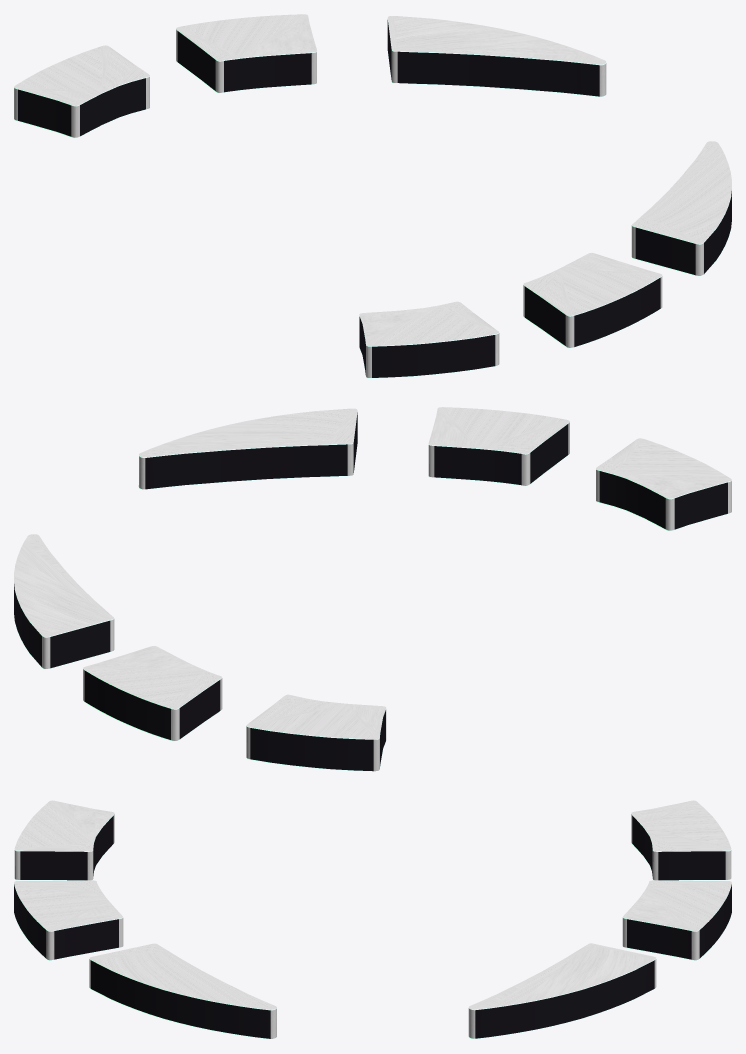
File: AD BIG.fbx
3 renders of one model, top to bottom at view 1: azimuth 30°, elevation 25°; view 2: azimuth 150°, elevation 25°; view 3: azimuth 270°, elevation 25°, orthographic. The views are drawn at different scales.
Visible parts, largest first — view 1: SM_SmallArea_.003, SM_SmallArea_.002, SM_SmallArea_.005; view 2: SM_SmallArea_.003, SM_SmallArea_.002, SM_SmallArea_.005; view 3: SM_SmallArea_.003, SM_SmallArea_.002, SM_SmallArea_.005.
Part boxes in pixels (bbox=[...]): SM_SmallArea_.003: bbox=[387, 16, 731, 276]; SM_SmallArea_.002: bbox=[176, 14, 662, 348]; SM_SmallArea_.005: bbox=[14, 45, 499, 378]; SM_SmallArea_.003: bbox=[14, 408, 357, 669]; SM_SmallArea_.002: bbox=[83, 407, 569, 741]; SM_SmallArea_.005: bbox=[246, 438, 731, 771]; SM_SmallArea_.003: bbox=[89, 943, 656, 1039]; SM_SmallArea_.002: bbox=[14, 880, 731, 960]; SM_SmallArea_.005: bbox=[14, 800, 731, 880].
Size of the model in its own units: 14738 by 973 by 21353.
3 materials, 1 textured.
